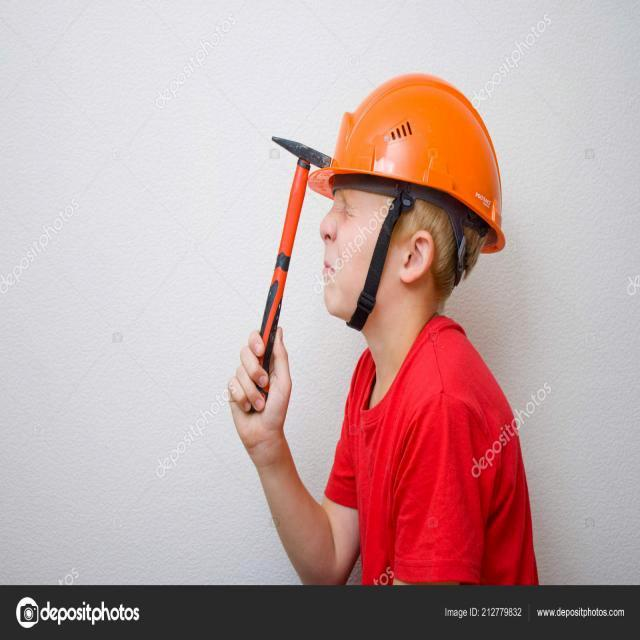hammer: (242, 113, 336, 424)
